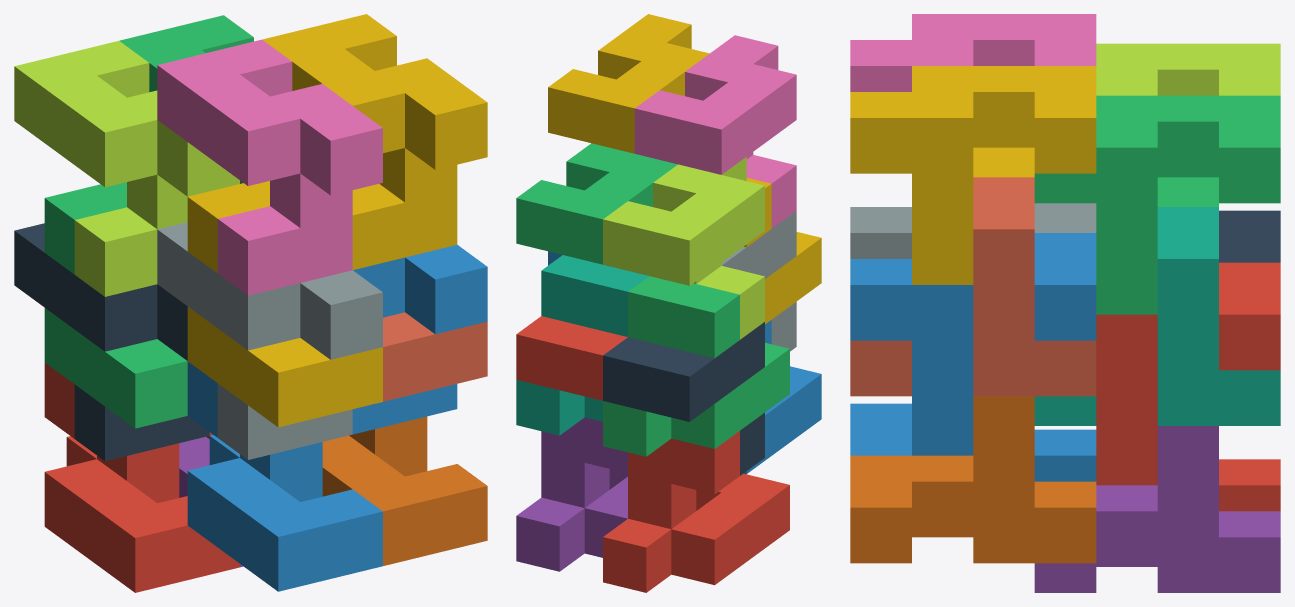
File: tiling.obj
3 renders of one model, left to right at view 1: azimuth 30°, elevation 25°; view 2: azimuth 150°, elevation 25°; view 3: azimuth 270°, elevation 25°, orthographic. The views are drawn at different scales.
Visible parts, largest first — view 1: copy_2_domain_4, copy_2_domain_3, copy_2_domain_8, copy_1_domain_2, copy_1_domain_1, copy_2_domain_2, copy_1_domain_4, copy_1_domain_6, copy_2_domain_1, copy_1_domain_3, copy_2_domain_6, copy_1_domain_8 (+2 smaller); view 2: copy_1_domain_1, copy_2_domain_4, copy_2_domain_3, copy_1_domain_3, copy_1_domain_5, copy_2_domain_8, copy_2_domain_1, copy_2_domain_7, copy_1_domain_7, copy_2_domain_5, copy_2_domain_2, copy_1_domain_4 (+1 smaller); view 3: copy_2_domain_8, copy_1_domain_6, copy_2_domain_7, copy_1_domain_5, copy_2_domain_6, copy_1_domain_8, copy_1_domain_7, copy_2_domain_5, copy_2_domain_4, copy_2_domain_3, copy_1_domain_2, copy_2_domain_2 (+4 smaller).
Boxes of the visible parts, x1,y1,x2,y2 form: copy_2_domain_4: (157,39,382,295); copy_2_domain_3: (14,41,239,296); copy_2_domain_8: (262,14,487,269); copy_1_domain_2: (187,361,382,591); copy_1_domain_1: (44,362,239,592); copy_2_domain_2: (157,222,382,459); copy_1_domain_4: (187,181,382,427); copy_1_domain_6: (322,416,487,565); copy_2_domain_1: (14,223,209,461); copy_1_domain_3: (44,182,187,428); copy_2_domain_6: (352,244,487,434); copy_1_domain_8: (383,312,487,401); copy_1_domain_1: (603,431,789,592); copy_2_domain_4: (634,35,796,228); copy_2_domain_3: (603,157,764,339); copy_1_domain_3: (603,276,789,456); copy_1_domain_5: (516,417,627,571); copy_2_domain_8: (548,14,709,153); copy_2_domain_1: (603,322,764,475); copy_2_domain_7: (516,143,677,264); copy_1_domain_7: (516,255,648,435); copy_2_domain_5: (516,316,627,400); copy_2_domain_2: (721,211,796,351); copy_1_domain_4: (744,178,821,324); copy_2_domain_8: (850,66,1096,284); copy_1_domain_6: (850,396,1096,563); copy_2_domain_7: (1034,95,1280,314); copy_1_domain_5: (1034,426,1280,592); copy_2_domain_6: (850,233,1096,451); copy_1_domain_8: (850,177,1096,396); copy_1_domain_7: (1034,207,1280,425); copy_2_domain_5: (1096,262,1280,481); copy_2_domain_4: (850,14,1096,91); copy_2_domain_3: (1096,43,1280,95); copy_1_domain_2: (850,403,1096,481); copy_2_domain_2: (850,203,1096,258).
Bounding box in the file's own units: 5 × 9 × 7.
